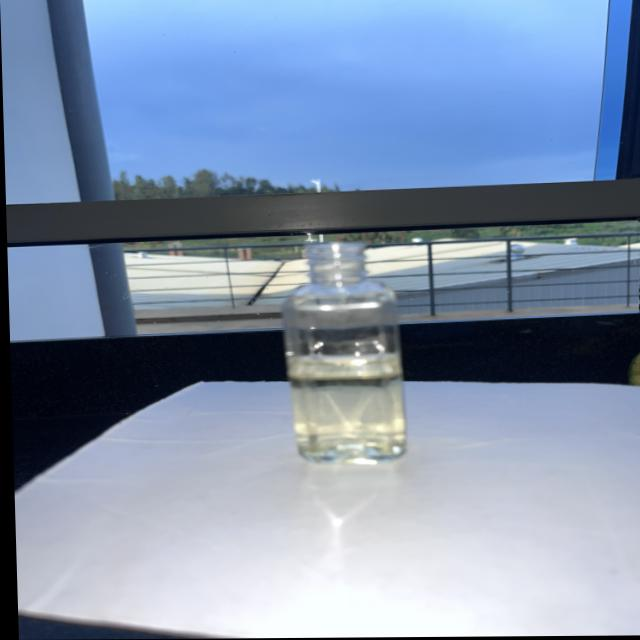oil: (286, 351, 402, 466)
